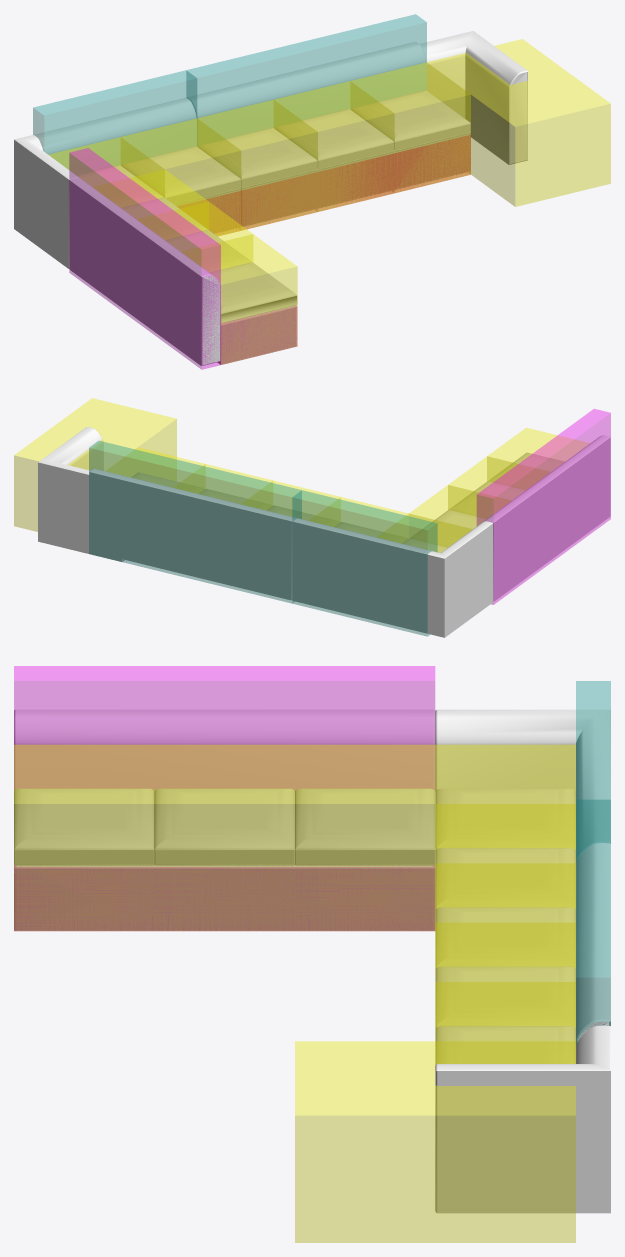
The model's file is asset.gltf.
3 views of the same model, one above another, from view 1: azimuth 30°, elevation 25°; view 2: azimuth 150°, elevation 25°; view 3: azimuth 270°, elevation 25° (orthographic). The views are drawn at different scales.
Parts seen in each view (by area): view 1: base (×12), backThree (×2), Seat (×8), Sofa, Chaise, cornerBackTwo, bottomThree (×2), cornerBackSingle, bottomTwo; view 2: base (×10), backThree (×2), cornerBackTwo, Sofa, cornerBackSingle, Chaise, Seat (×7); view 3: base (×10), Sofa, Seat (×8), Chaise, backThree (×2), bottomThree, cornerBackSingle, cornerBackTwo.
Boxes of the visible parts, <box> form: base (×12): <box>33,14,470,364</box>; backThree (×2): <box>69,42,426,365</box>; Seat (×8): <box>77,90,470,323</box>; Sofa: <box>69,148,297,369</box>; Chaise: <box>427,39,610,206</box>; cornerBackTwo: <box>14,97,196,268</box>; bottomThree (×2): <box>218,132,470,364</box>; cornerBackSingle: <box>419,31,527,164</box>; bottomTwo: <box>174,188,240,233</box>; base (×10): <box>89,428,589,636</box>; backThree (×2): <box>89,435,610,601</box>; cornerBackTwo: <box>292,518,493,637</box>; Sofa: <box>477,409,610,604</box>; cornerBackSingle: <box>38,427,124,561</box>; Chaise: <box>14,398,176,531</box>; Seat (×7): <box>132,452,564,547</box>; base (×10): <box>14,681,610,1063</box>; Sofa: <box>14,666,434,930</box>; Seat (×8): <box>14,788,575,1064</box>; Chaise: <box>295,1041,575,1242</box>; backThree (×2): <box>14,709,610,1044</box>; bottomThree: <box>14,865,434,930</box>; cornerBackSingle: <box>435,1025,610,1213</box>; cornerBackTwo: <box>435,709,610,861</box>.
Size of the model in its own units: 3.96 by 0.9144 by 2.59.
